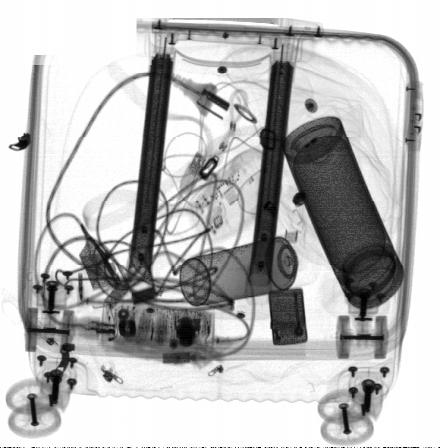Lighter: (270, 288, 308, 346)
Sprayer: (179, 230, 323, 306)
